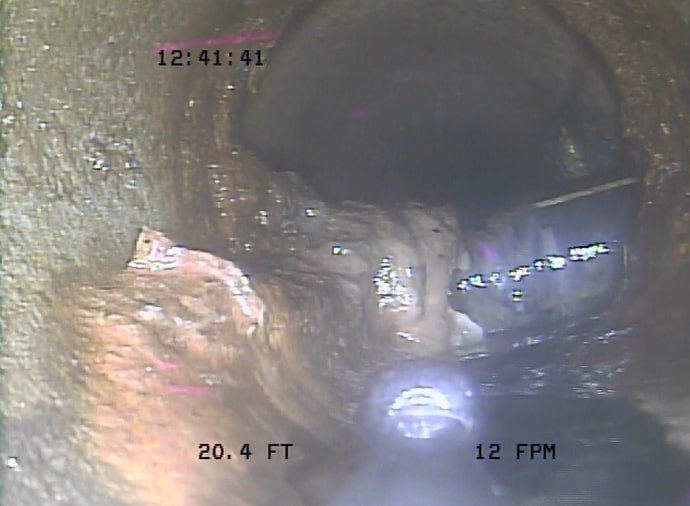cb: (342, 159, 676, 363)
